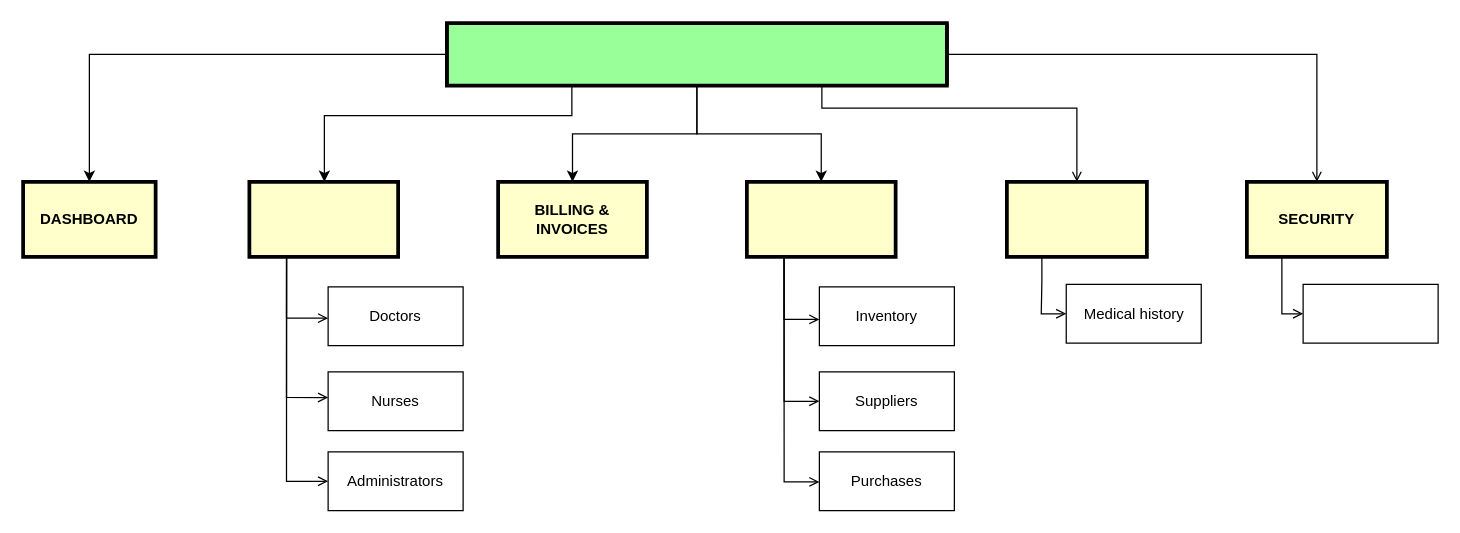
The diagram is 1460 pixels wide and 533 high, and some of its shapes have lost their labels. Here are the shapes that lost their labels. From the top down, the centre of each, then its label:
At pixel 696 54: "CLINIC MANAGEMENT SYSTEM".
At pixel 323 218: "STAFF".
At pixel 820 218: "PROCUREMENT".
At pixel 1076 218: "PATIENT RECORDS".
At pixel 1370 313: "Authenticate and Authorize users".
